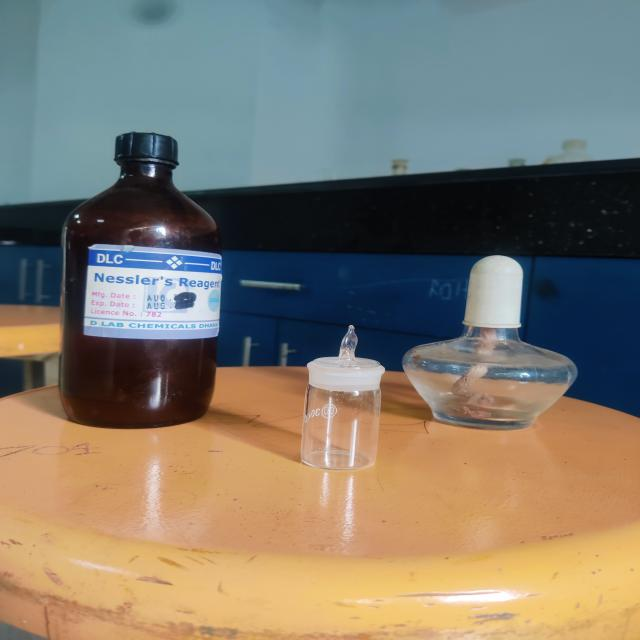Nessler_Reagent_Bottle: (32, 108, 242, 456)
Spirit_Lamp: (384, 251, 592, 449)
Weighing_Bottle: (280, 307, 396, 495)
